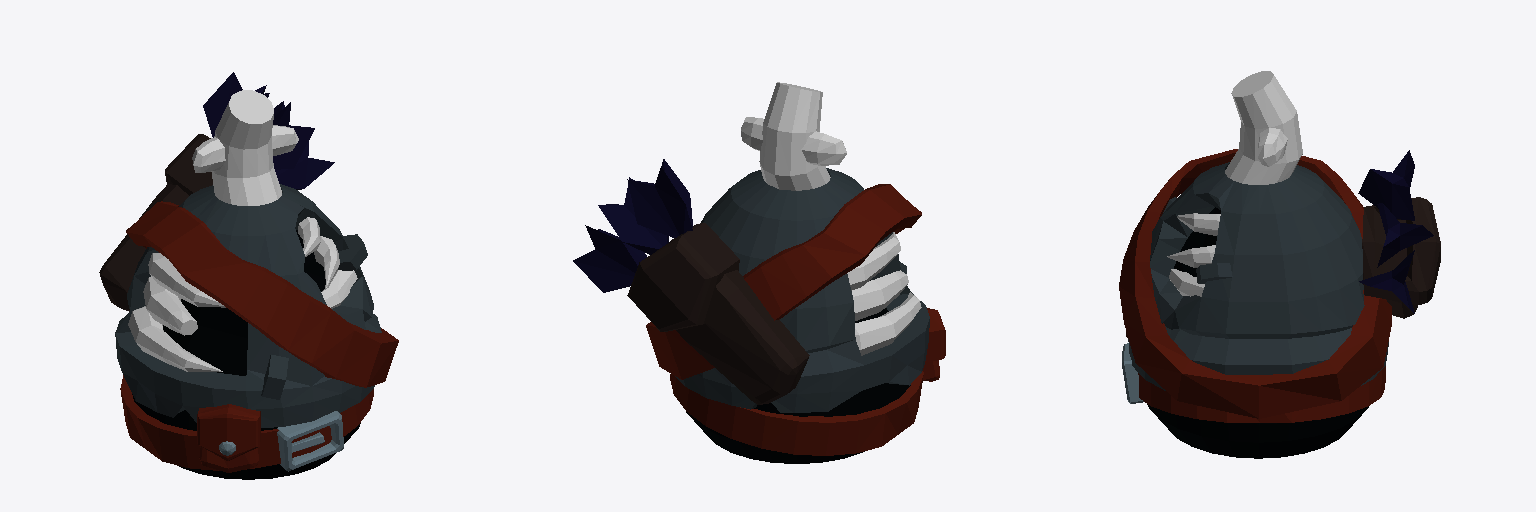
The model's file is character_skeleton_archer_body.obj.
3 views of the same model, side by side, from view 1: azimuth 30°, elevation 25°; view 2: azimuth 150°, elevation 25°; view 3: azimuth 270°, elevation 25° (orthographic).
Visible parts, largest first — view 1: character_skeleton_archer_body_Cube.7661; view 2: character_skeleton_archer_body_Cube.7661; view 3: character_skeleton_archer_body_Cube.7661.
Boxes of the visible parts, <box> form: character_skeleton_archer_body_Cube.7661: <box>99,72,398,479</box>; character_skeleton_archer_body_Cube.7661: <box>573,82,945,463</box>; character_skeleton_archer_body_Cube.7661: <box>1119,71,1440,458</box>.
Bounding box in the file's own units: 0.8 × 1.01 × 0.8533.